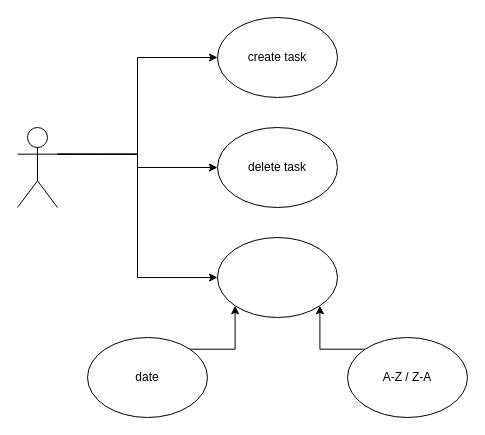
The diagram is 485 pixels wide and 435 high, and some of its shapes have lost their labels. The shapes that lost their labels are listed below. From the top down, each one's centre as x and y in pixels, then its label:
At point (37, 167): "User".
At point (277, 277): "filter task".
